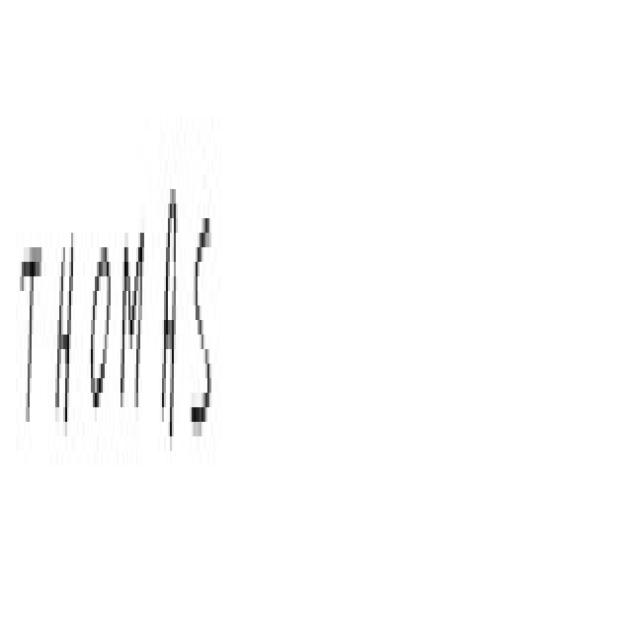A: (152, 128, 179, 536)
H: (55, 146, 82, 607)
M: (119, 203, 149, 498)
O: (86, 165, 113, 547)
S: (185, 146, 221, 521)
T: (15, 137, 51, 562)
